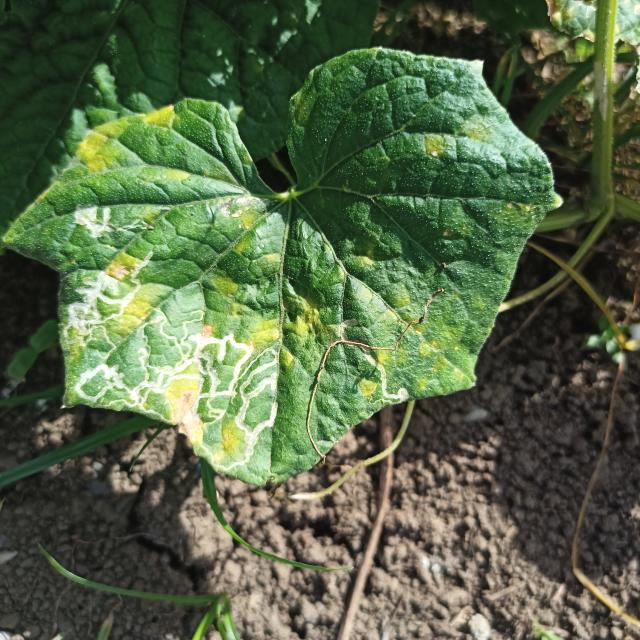disease_cucumber: (63, 185, 320, 462), (317, 252, 447, 399), (74, 100, 198, 188), (420, 119, 486, 161)
